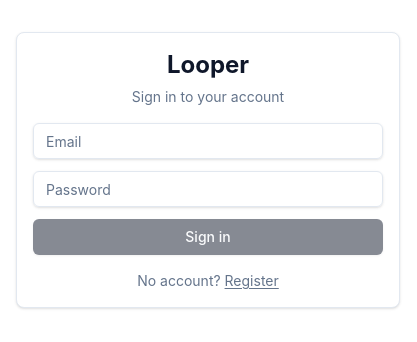
Test case: <LoginPage /> › falls back to generic error when err is not Error
In the field with placeholder "Email": coordinates (208, 141) [33,123,383,159], type "a@b.co"
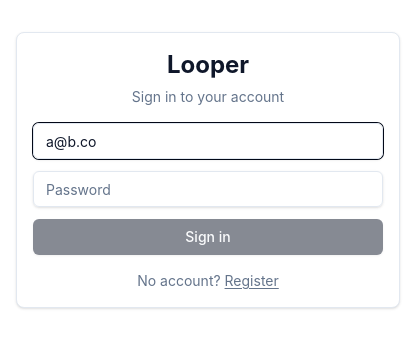
In the password field with placeholder "Password": coordinates (208, 189) [33,171,383,207], type "pw12345"
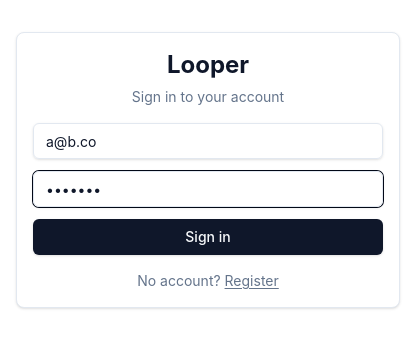
Click the button "Sign in": coordinates (208, 237) [33,219,383,255]
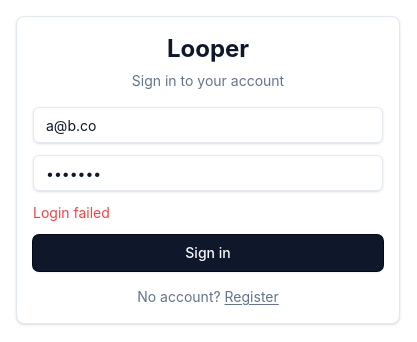
Now the message "Login failed" is shown, box [33,204,110,221]
